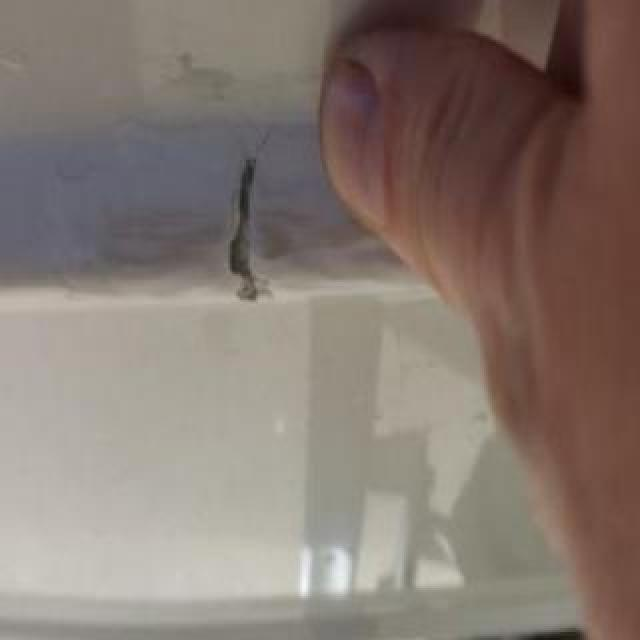crack: (226, 129, 274, 307)
